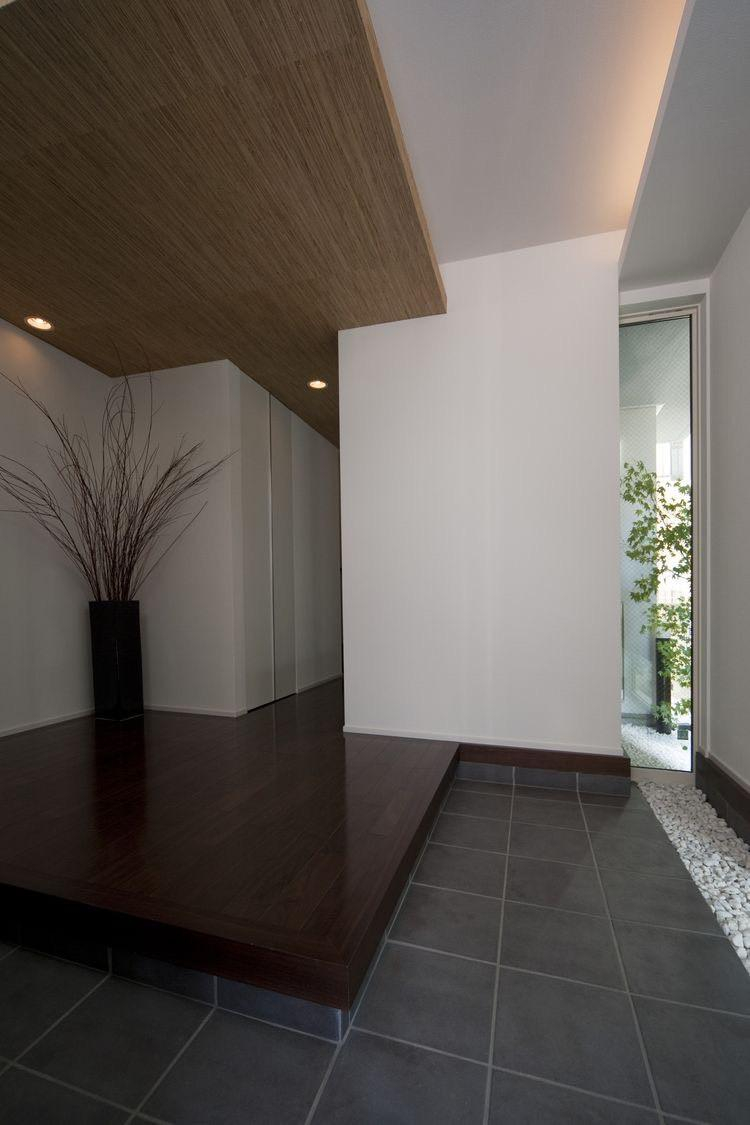floor: (0, 778, 749, 1124)
safe: (0, 672, 460, 967)
